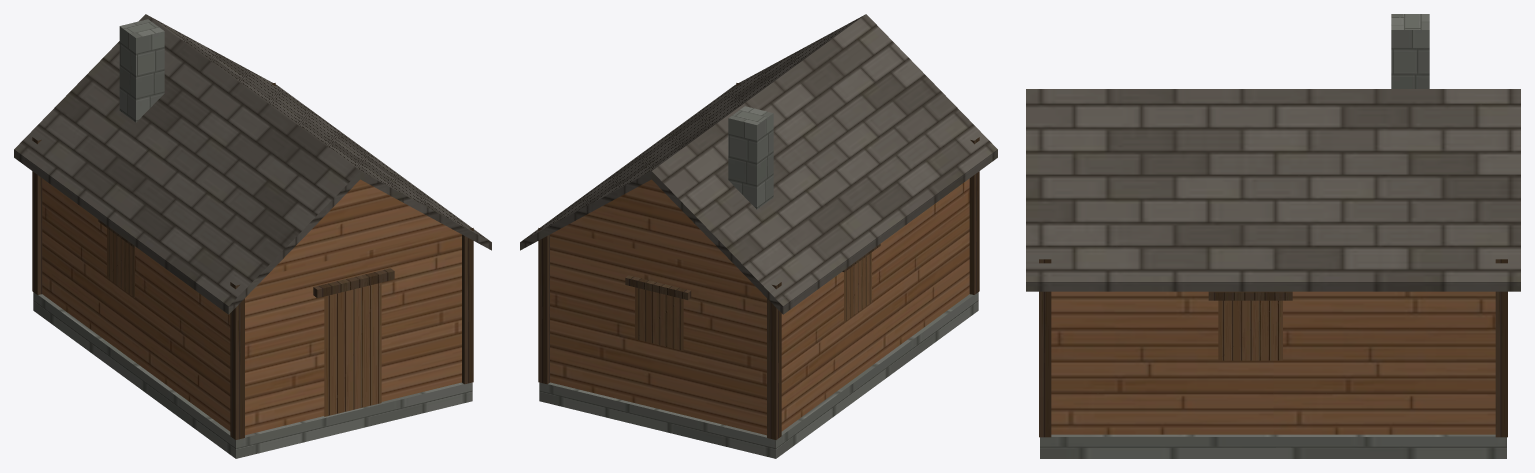
File: ae_sand_wood_medium_block_lod1.glb
3 views of the same model, side by side, from view 1: azimuth 30°, elevation 25°; view 2: azimuth 150°, elevation 25°; view 3: azimuth 270°, elevation 25° (orthographic). The views are drawn at different scales.
Parts seen in each view (by area): view 1: ae_sand_wood_medium_block_lod1; view 2: ae_sand_wood_medium_block_lod1; view 3: ae_sand_wood_medium_block_lod1.
Part boxes in pixels (x1,y1,x2,y2): ae_sand_wood_medium_block_lod1: (14,14,491,458); ae_sand_wood_medium_block_lod1: (520,14,997,458); ae_sand_wood_medium_block_lod1: (1026,14,1520,458).
Bounding box in the file's own units: 4.6 × 4.95 × 6.5.
1 material, 1 textured.
